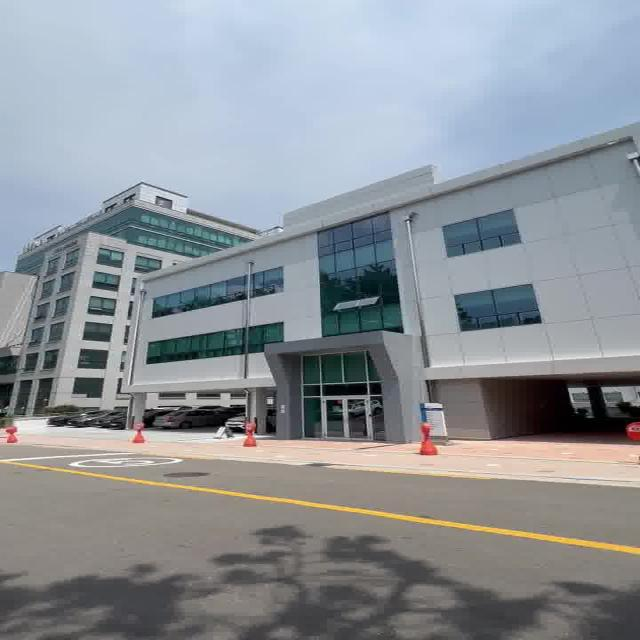building: (160, 195, 640, 442)
